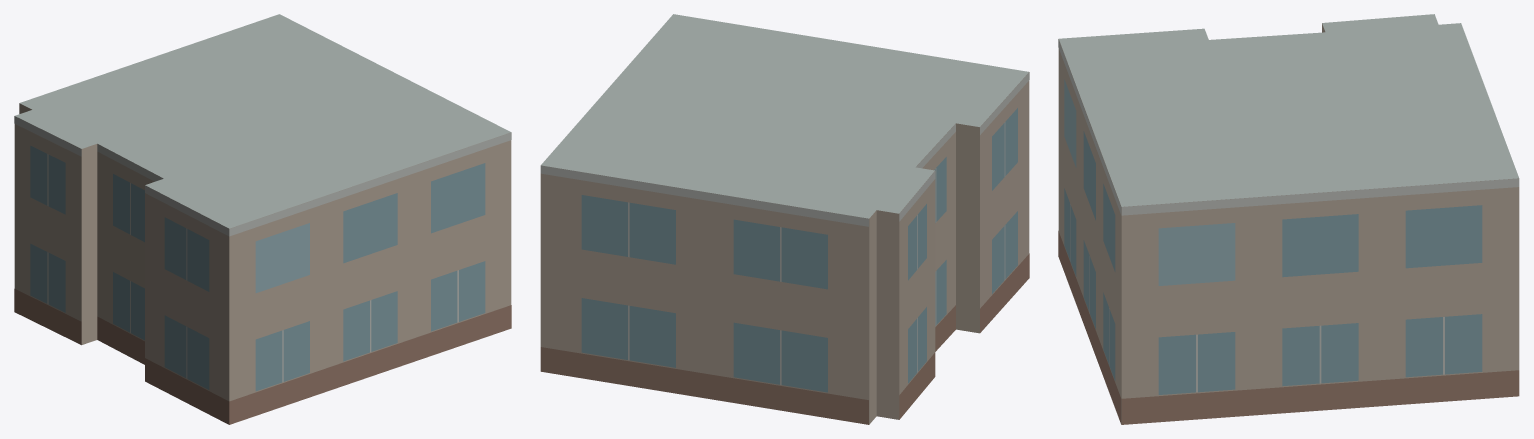
The model's file is survey-upis-32932691.glb.
3 renders of one model, left to right at view 1: azimuth 30°, elevation 25°; view 2: azimuth 150°, elevation 25°; view 3: azimuth 270°, elevation 25°, orthographic. The views are drawn at different scales.
Parts seen in each view (by area): view 1: survey-upis-32932691.tmp; view 2: survey-upis-32932691.tmp; view 3: survey-upis-32932691.tmp.
Part boxes in pixels (x1=…): survey-upis-32932691.tmp: x1=14, y1=14, x2=511, y2=424; survey-upis-32932691.tmp: x1=540, y1=14, x2=1029, y2=424; survey-upis-32932691.tmp: x1=1058, y1=14, x2=1519, y2=424.
Bounding box in the file's own units: 11.59 × 6.1 × 11.7.
